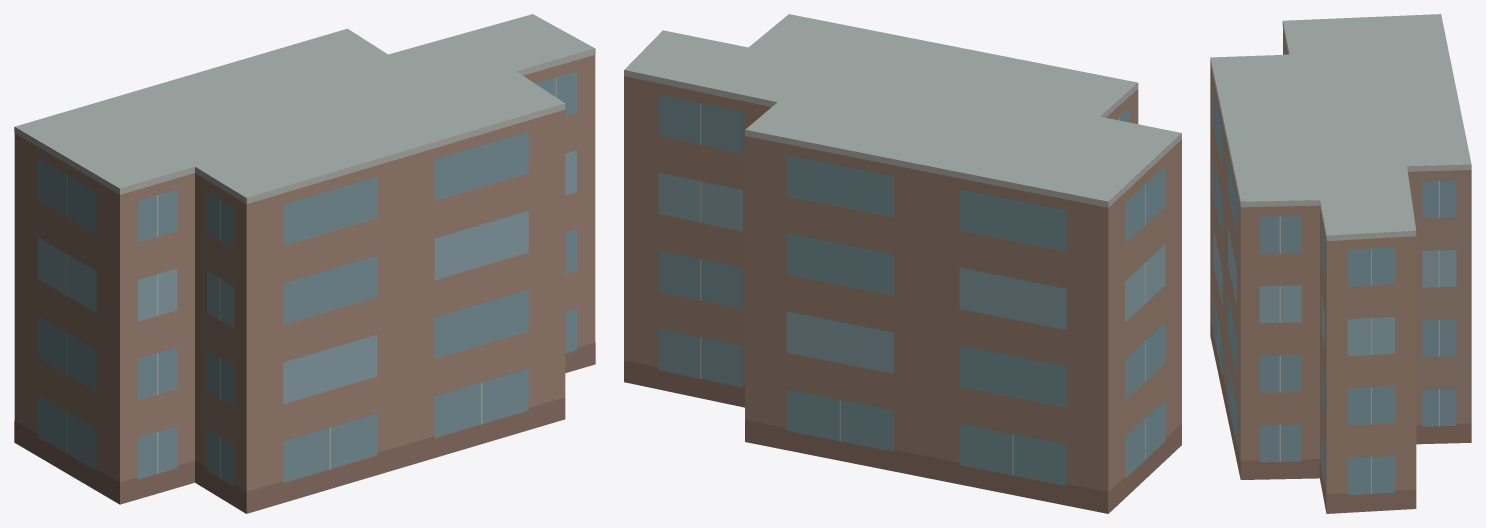
The model's file is survey-upis-32469220.glb.
The picture shows the model from 3 angles, left to right: view 1: azimuth 30°, elevation 25°; view 2: azimuth 150°, elevation 25°; view 3: azimuth 270°, elevation 25°; orthographic projection. The views are drawn at different scales.
Parts seen in each view (by area): view 1: survey-upis-32469220.tmp; view 2: survey-upis-32469220.tmp; view 3: survey-upis-32469220.tmp.
Part boxes in pixels (x1,y1,x2,y2): survey-upis-32469220.tmp: (14, 14, 595, 513); survey-upis-32469220.tmp: (624, 14, 1181, 513); survey-upis-32469220.tmp: (1210, 14, 1471, 513).
Bounding box in the file's own units: 21.2 × 12.4 × 10.56.
